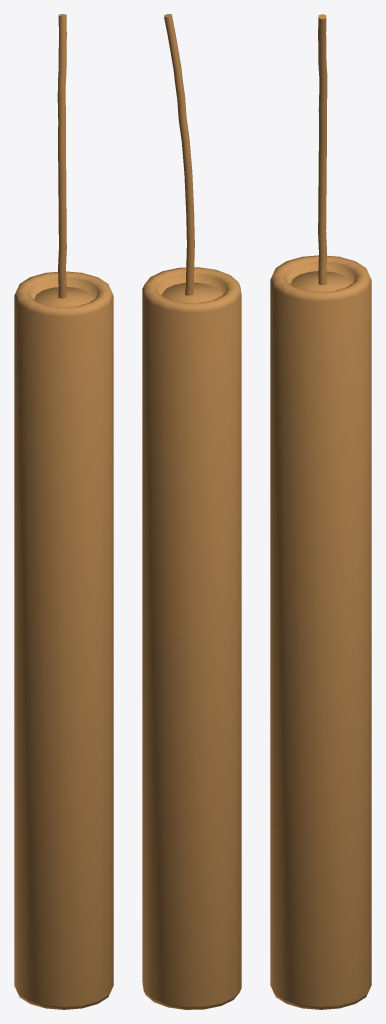
The model's file is TNT.fbx.
3 views of the same model, side by side, from view 1: azimuth 90°, elevation 25°; view 2: azimuth 150°, elevation 25°; view 3: azimuth 270°, elevation 25° (orthographic). The views are drawn at different scales.
Visible parts, largest first — view 1: TNT_Body_Low, TNT_Fuse_Low; view 2: TNT_Body_Low, TNT_Fuse_Low; view 3: TNT_Body_Low, TNT_Fuse_Low.
Part boxes in pixels (<box>): TNT_Body_Low: <box>14,271,113,1009</box>; TNT_Fuse_Low: <box>57,14,66,298</box>; TNT_Body_Low: <box>142,267,241,1009</box>; TNT_Fuse_Low: <box>164,14,194,295</box>; TNT_Body_Low: <box>270,255,371,1009</box>; TNT_Fuse_Low: <box>318,14,327,285</box>.
Size of the model in its own units: 18.66 by 200 by 18.67.
